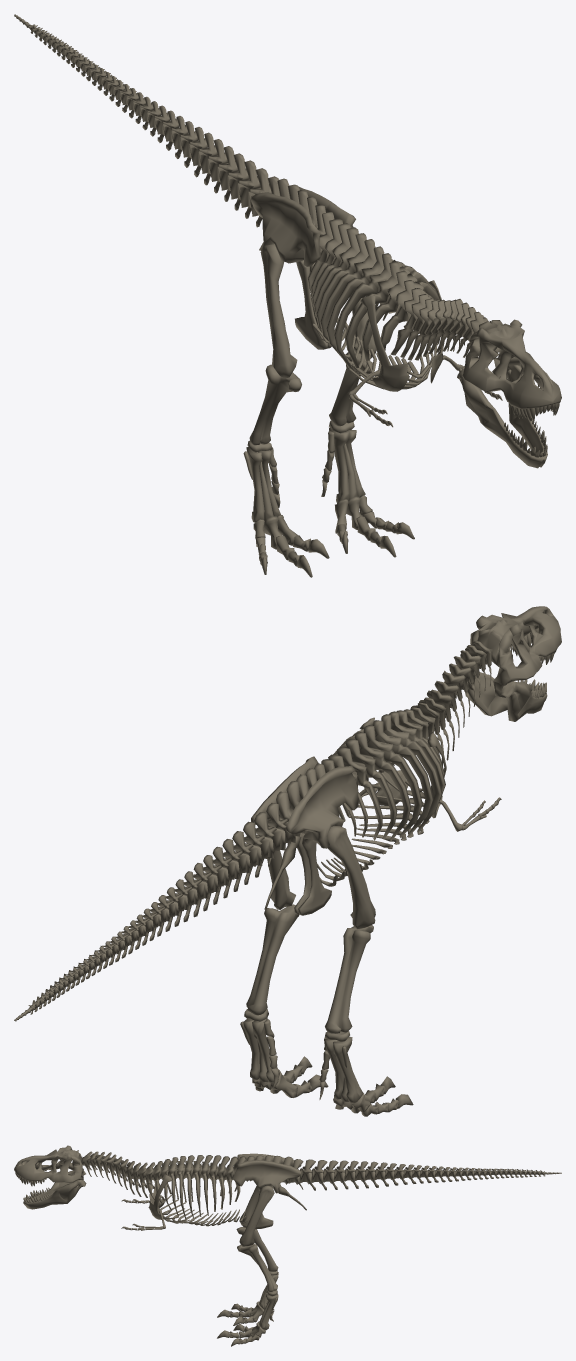
File: joel3dTrexOBJ.obj
3 views of the same model, one above another, from view 1: azimuth 30°, elevation 25°; view 2: azimuth 150°, elevation 25°; view 3: azimuth 270°, elevation 25° (orthographic). The views are drawn at different scales.
Visible parts, largest first — view 1: Trex_Geometry Trex_joel3d ribs, Trex_Geometry Trex_joel3d tail, Trex_Geometry Trex_joel3d pelvis, Trex_Geometry Trex_joel3d skull, Trex_Geometry Trex_joel3d neck1, Trex_Geometry Trex_joel3d jaw, Trex_Geometry Trex_joel3d R_Hip, Trex_Geometry Trex_joel3d R_Ankle, Trex_Geometry Trex_joel3d L_Ankle, Trex_Geometry Trex_joel3d R_Knee, Trex_Geometry Trex_joel3d R_Blade, Trex_Geometry Trex_joel3d L_Knee; view 2: Trex_Geometry Trex_joel3d ribs, Trex_Geometry Trex_joel3d tail, Trex_Geometry Trex_joel3d pelvis, Trex_Geometry Trex_joel3d skull, Trex_Geometry Trex_joel3d neck1, Trex_Geometry Trex_joel3d jaw, Trex_Geometry Trex_joel3d R_Knee, Trex_Geometry Trex_joel3d L_Knee, Trex_Geometry Trex_joel3d R_Hip, Trex_Geometry Trex_joel3d R_Ankle, Trex_Geometry Trex_joel3d L_Ankle, Trex_Geometry Trex_joel3d L_Hip; view 3: Trex_Geometry Trex_joel3d ribs, Trex_Geometry Trex_joel3d tail, Trex_Geometry Trex_joel3d pelvis, Trex_Geometry Trex_joel3d skull, Trex_Geometry Trex_joel3d neck1, Trex_Geometry Trex_joel3d jaw, Trex_Geometry Trex_joel3d L_Hip, Trex_Geometry Trex_joel3d L_Knee, Trex_Geometry Trex_joel3d R_Knee, Trex_Geometry Trex_joel3d L_Ankle, Trex_Geometry Trex_joel3d L_blade, Trex_Geometry Trex_joel3d R_Hip.
Boxes of the visible parts, x1,y1,x2,y2 form: Trex_Geometry Trex_joel3d ribs: (307, 212, 440, 389); Trex_Geometry Trex_joel3d tail: (14, 14, 279, 227); Trex_Geometry Trex_joel3d pelvis: (251, 178, 355, 349); Trex_Geometry Trex_joel3d skull: (462, 319, 561, 421); Trex_Geometry Trex_joel3d neck1: (400, 294, 488, 360); Trex_Geometry Trex_joel3d jaw: (457, 365, 547, 468); Trex_Geometry Trex_joel3d R_Hip: (260, 244, 297, 378); Trex_Geometry Trex_joel3d R_Ankle: (243, 440, 280, 522); Trex_Geometry Trex_joel3d L_Ankle: (329, 420, 365, 503); Trex_Geometry Trex_joel3d R_Knee: (249, 364, 301, 445); Trex_Geometry Trex_joel3d R_Blade: (360, 295, 409, 391); Trex_Geometry Trex_joel3d L_Knee: (329, 351, 372, 426); Trex_Geometry Trex_joel3d ribs: (317, 707, 445, 886); Trex_Geometry Trex_joel3d tail: (14, 803, 291, 1021); Trex_Geometry Trex_joel3d pelvis: (251, 756, 358, 915); Trex_Geometry Trex_joel3d skull: (467, 606, 561, 697); Trex_Geometry Trex_joel3d neck1: (411, 641, 492, 765); Trex_Geometry Trex_joel3d jaw: (465, 672, 547, 721); Trex_Geometry Trex_joel3d R_Knee: (325, 925, 373, 1033); Trex_Geometry Trex_joel3d L_Knee: (246, 904, 299, 1015); Trex_Geometry Trex_joel3d R_Hip: (326, 825, 375, 928); Trex_Geometry Trex_joel3d R_Ankle: (324, 1031, 363, 1103); Trex_Geometry Trex_joel3d L_Ankle: (240, 1009, 279, 1082); Trex_Geometry Trex_joel3d L_Hip: (267, 849, 295, 909); Trex_Geometry Trex_joel3d ribs: (143, 1155, 246, 1226); Trex_Geometry Trex_joel3d tail: (288, 1159, 561, 1190); Trex_Geometry Trex_joel3d pelvis: (233, 1153, 306, 1229); Trex_Geometry Trex_joel3d skull: (14, 1145, 83, 1186); Trex_Geometry Trex_joel3d neck1: (81, 1151, 147, 1197); Trex_Geometry Trex_joel3d jaw: (23, 1170, 86, 1209); Trex_Geometry Trex_joel3d L_Hip: (239, 1185, 274, 1246); Trex_Geometry Trex_joel3d L_Knee: (237, 1243, 277, 1291); Trex_Geometry Trex_joel3d R_Knee: (236, 1227, 278, 1271); Trex_Geometry Trex_joel3d L_Ankle: (259, 1288, 278, 1330); Trex_Geometry Trex_joel3d L_blade: (149, 1174, 172, 1219); Trex_Geometry Trex_joel3d R_Hip: (239, 1186, 259, 1225).
Bounding box in the file's own units: 3.97 × 8.87 × 24.67.
